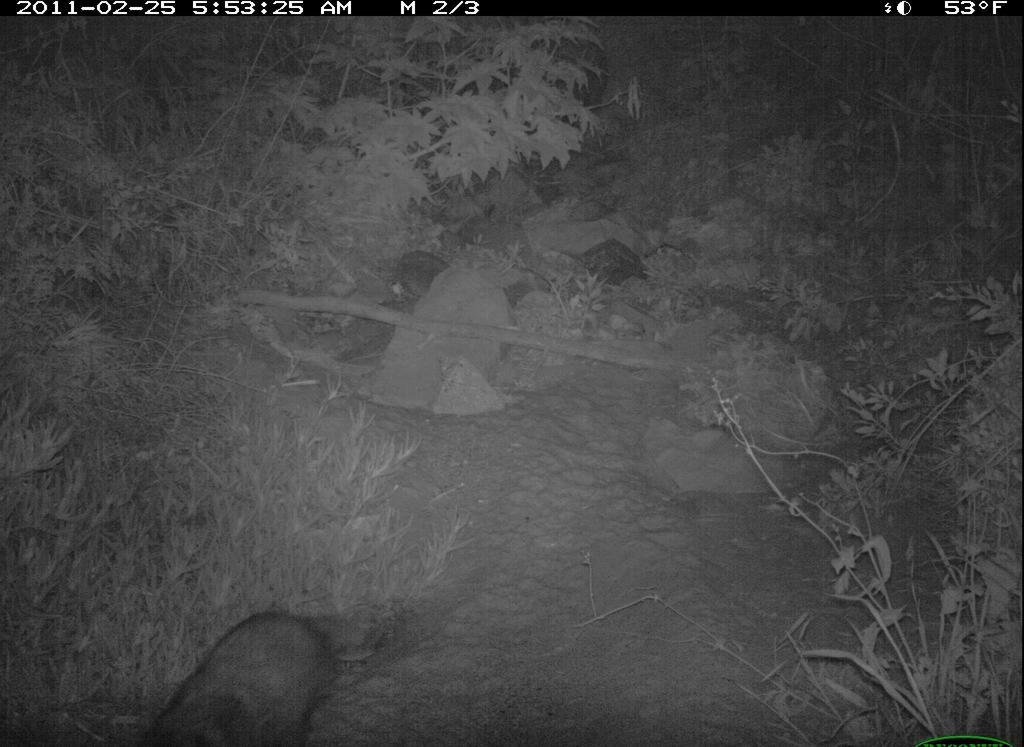raccoon: (132, 598, 355, 743)
